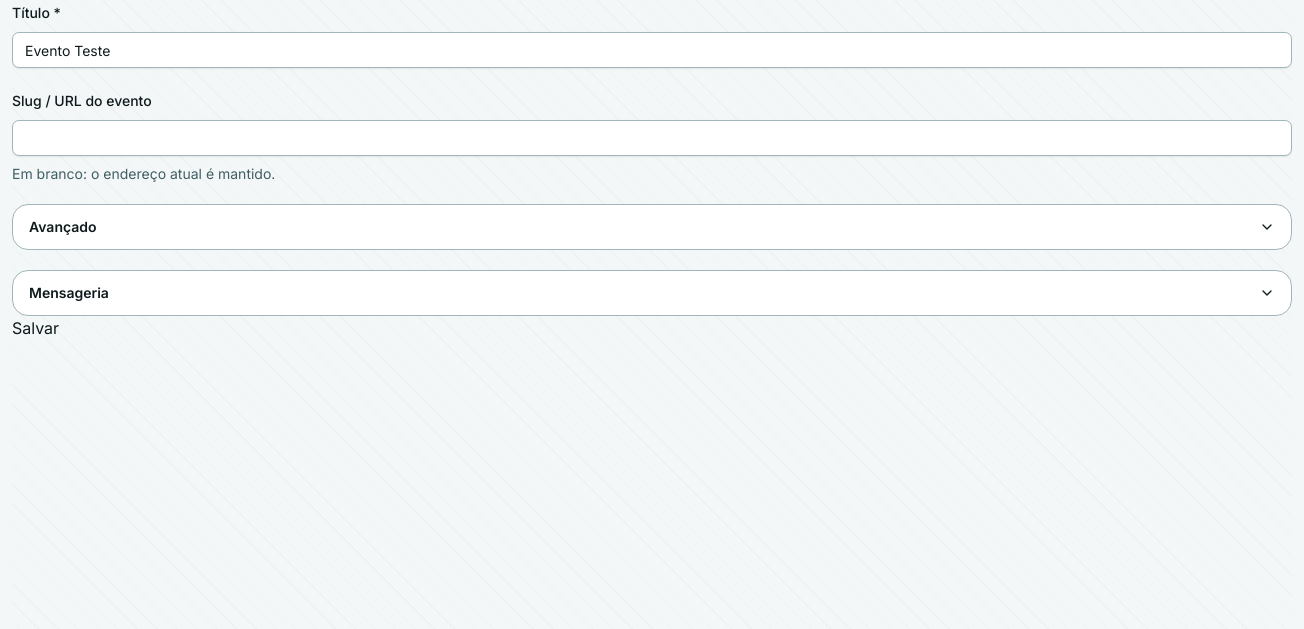
EventFormFields — seções recolhíveis › Avançado abre com início, término, local, capacidade e dress code
Click the button "Avançado" at (63, 226), box x1=13 y1=205 x2=1291 y2=249
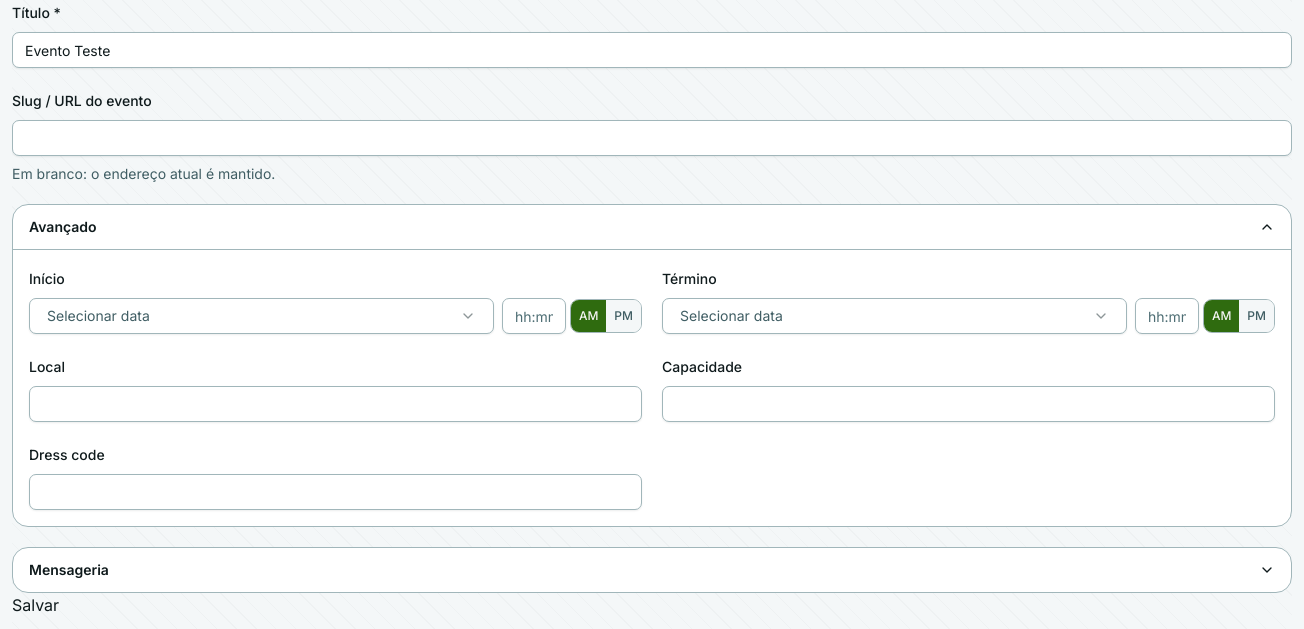
Check: the button named "Início" is shown, box x1=29 y1=298 x2=494 y2=334
Check: the button named "Término" is shown, box x1=662 y1=298 x2=1127 y2=334
Check: the field labelled "Local" is shown, box x1=29 y1=386 x2=642 y2=422
